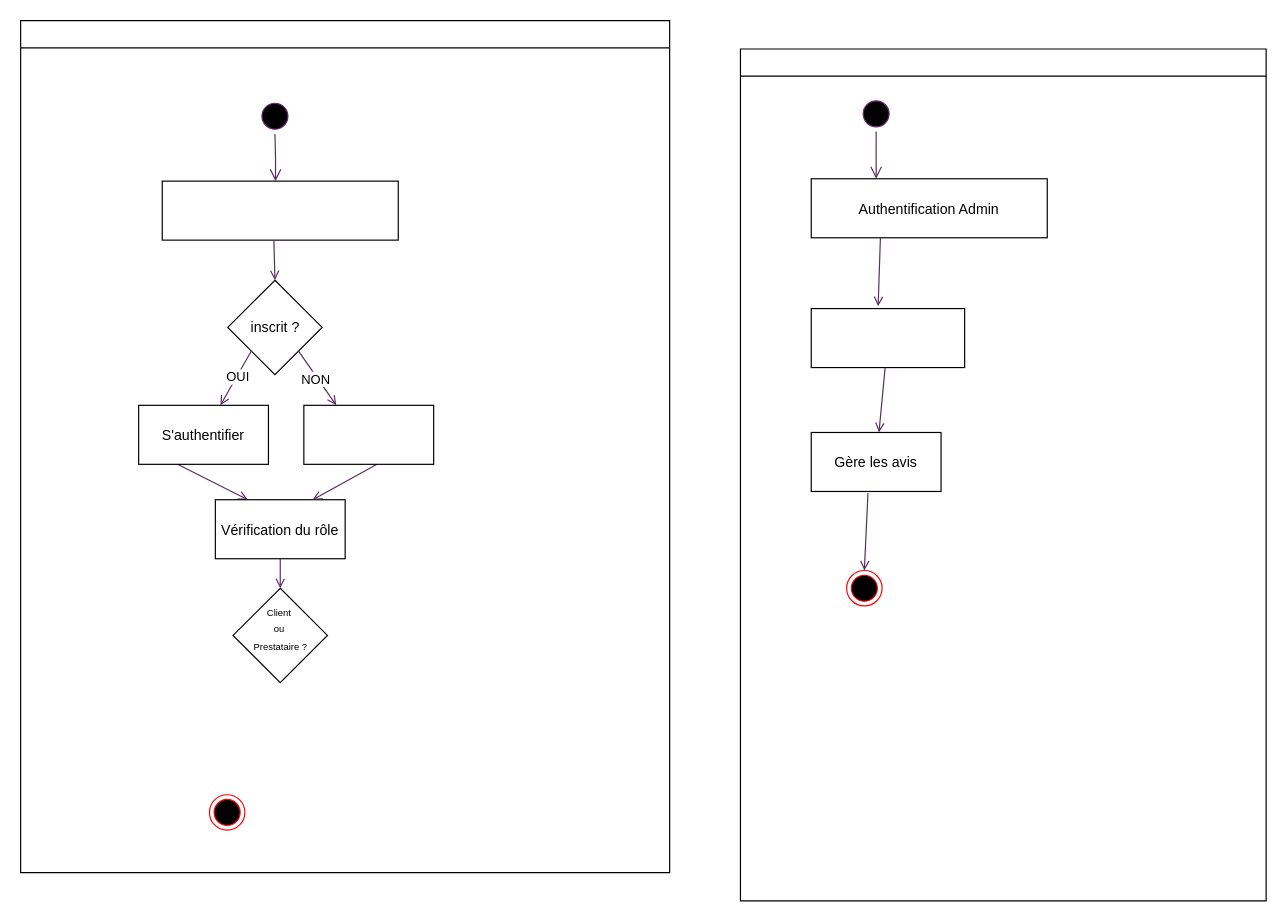
This 1287x922 diagram has some shape labels left out. Each missing label, with the centre of its shape:
"Affichage de la page d'acceuil" belongs at point 279,210.
"Gère les utilisateurs" belongs at point 887,337.
"S'inscrire" belongs at point 368,434.
